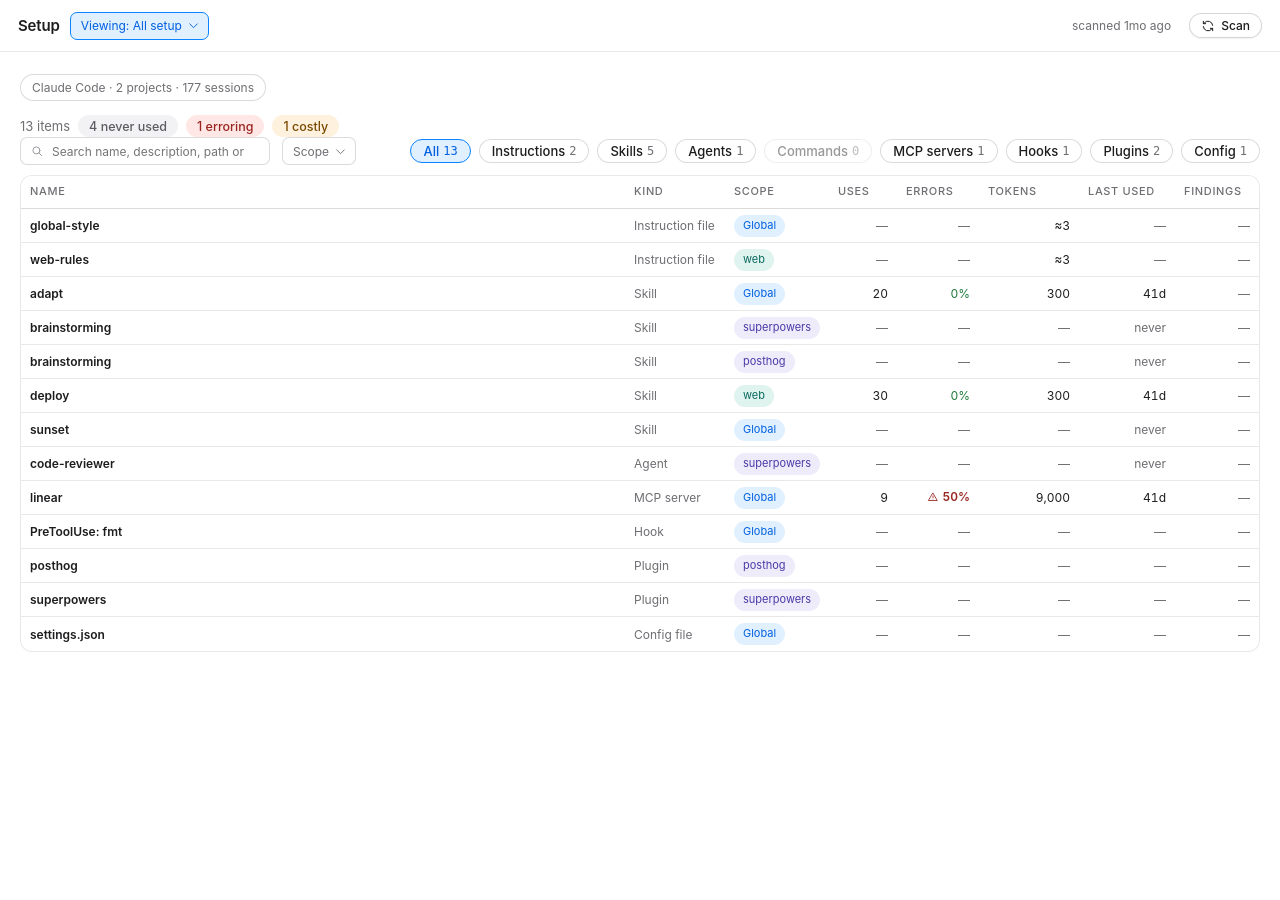
Test: Setup — which items open editable › a row on the {} chip (superpowers) opens editable only where the backend allows it
The image size is (1280, 900).
Expected: the element named "Kinds" is shown, x1=410 y1=139 x2=1260 y2=163
Click the radio button labelled "Plugins 2".
click(1132, 151)  # box x1=1090 y1=139 x2=1173 y2=163
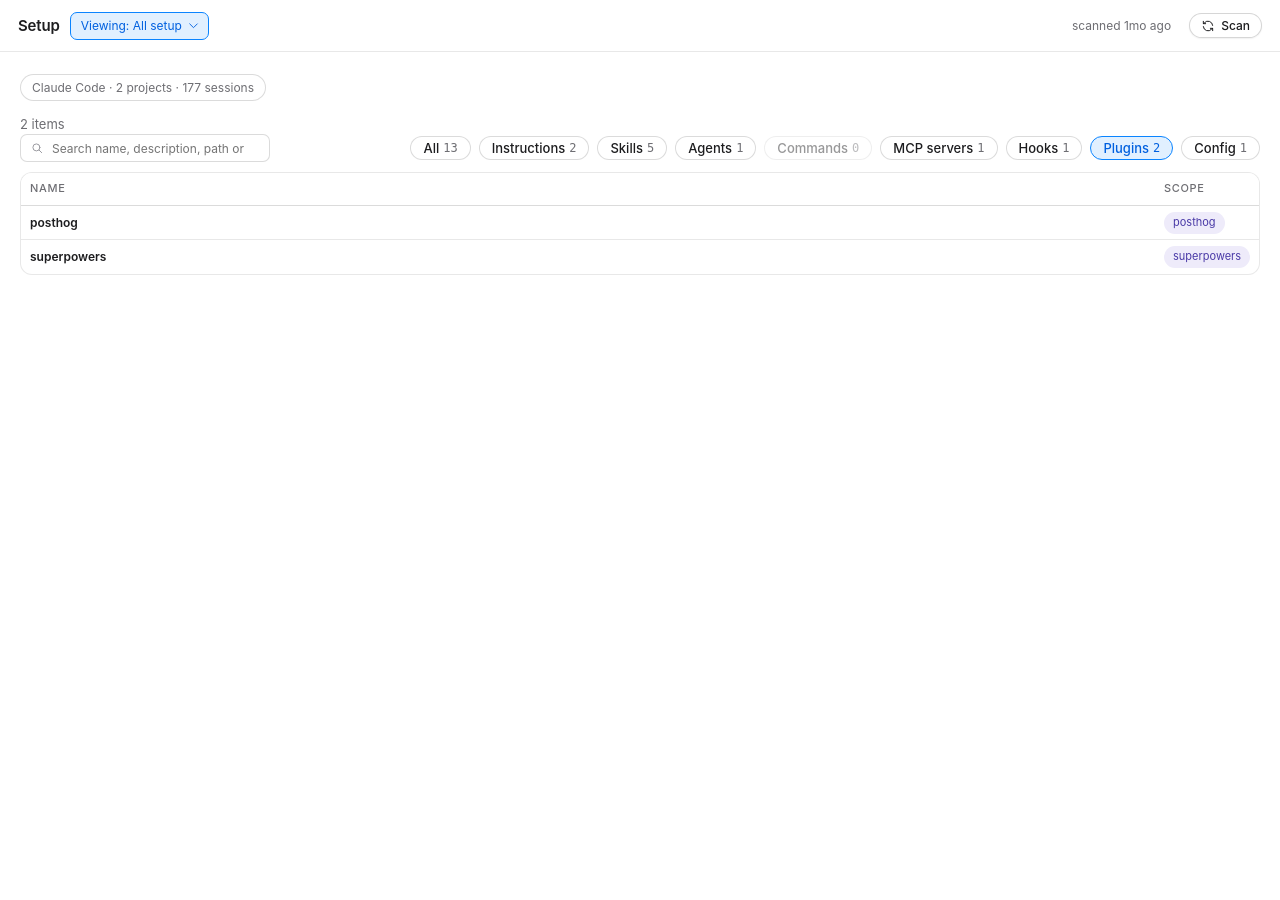
Click the row with class "dt__row" showing "superpowers superpowers".
click(68, 257)  # box x1=21 y1=240 x2=1259 y2=274
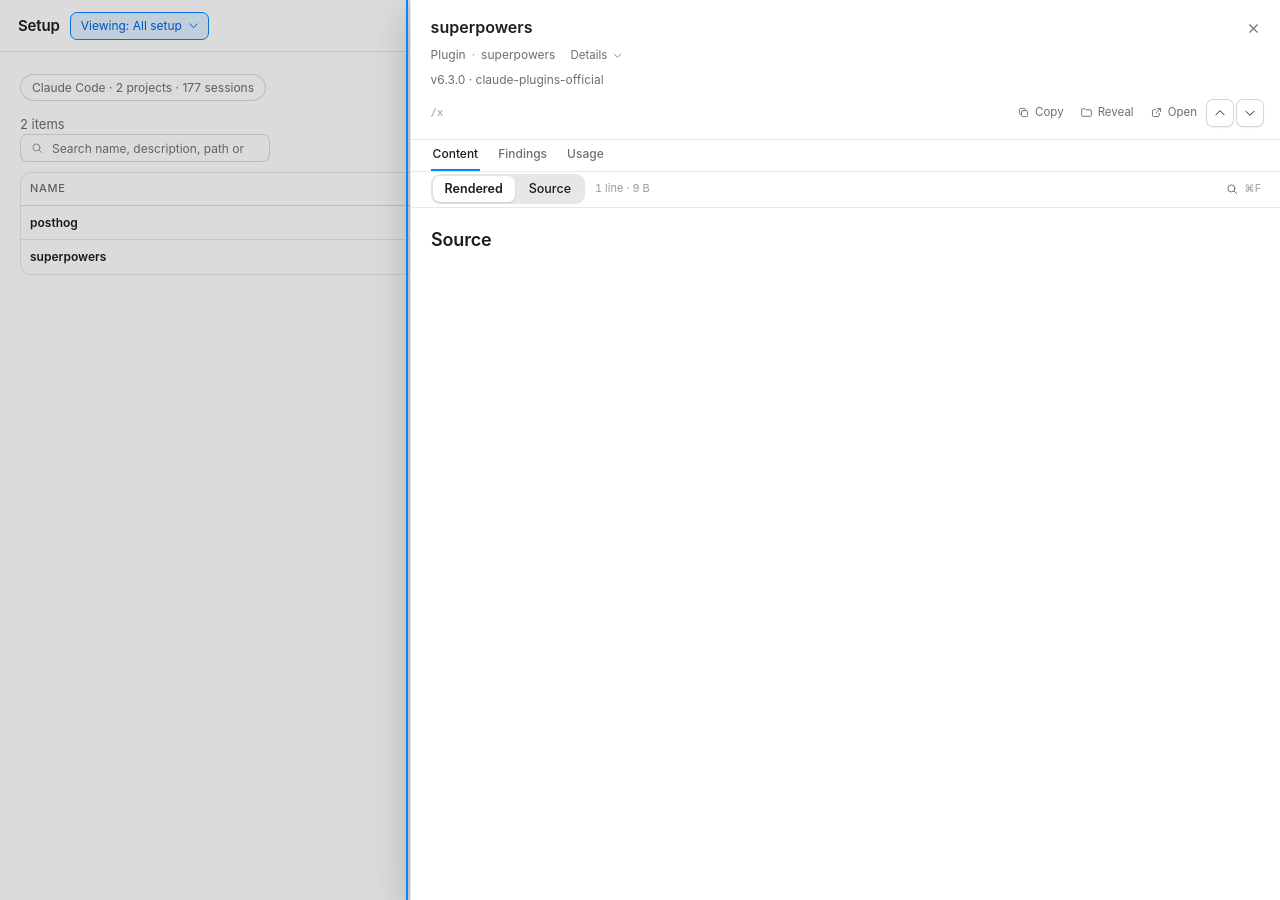
Now the heading "Source" is shown, box x1=431 y1=229 x2=491 y2=250
